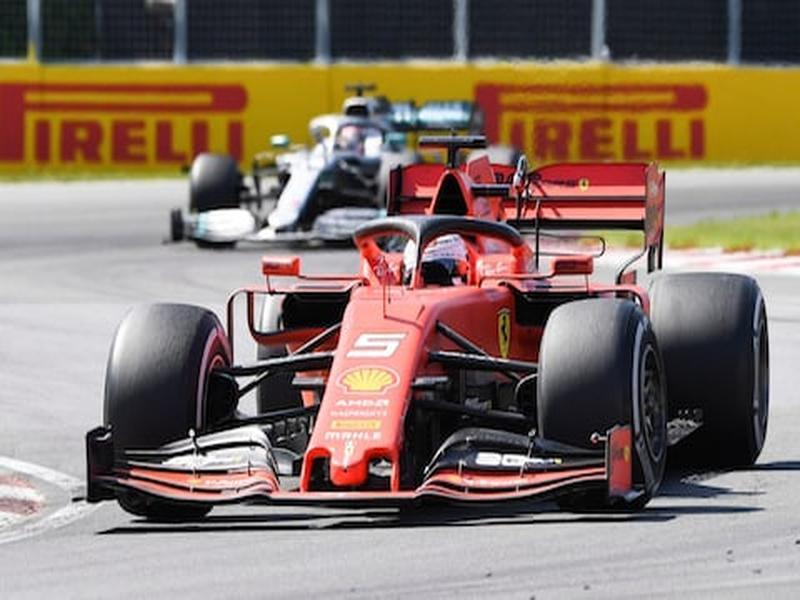f1: (91, 182, 763, 528), (170, 30, 536, 239)
